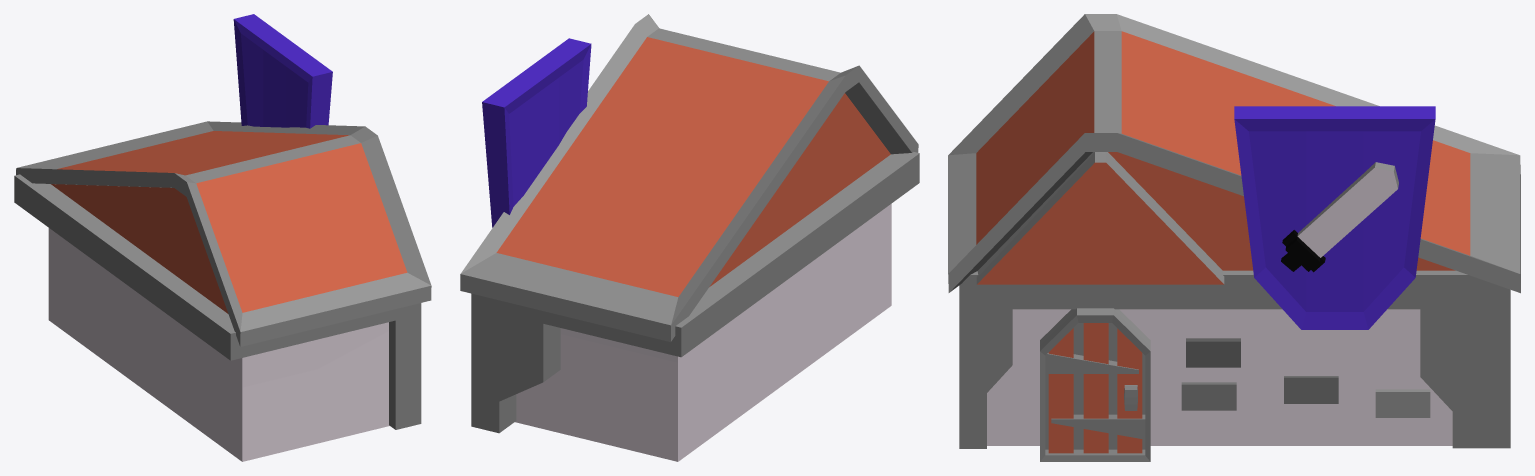
File: sword 1.fbx
The picture shows the model from 3 angles, left to right: view 1: azimuth 30°, elevation 25°; view 2: azimuth 150°, elevation 25°; view 3: azimuth 270°, elevation 25°; orthographic projection. The views are drawn at different scales.
Parts seen in each view (by area): view 1: Cube; view 2: Cube; view 3: Cube, Cube.002, Cube.001, Cube.003, Cube.004.
Boxes of the visible parts, x1,y1,x2,y2 form: Cube: (14, 14, 431, 461); Cube: (460, 14, 919, 461); Cube: (948, 14, 1520, 461); Cube.002: (1186, 338, 1240, 367); Cube.001: (1181, 382, 1236, 410); Cube.003: (1375, 389, 1430, 417); Cube.004: (1284, 376, 1338, 403).
Bounding box in the file's own units: 737 × 866 × 1291.
